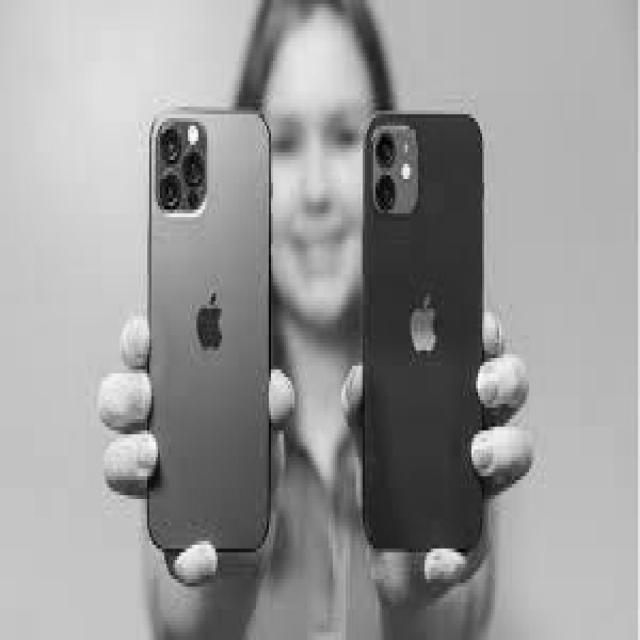No gun_phone: (148, 114, 272, 546), (365, 117, 484, 552)
